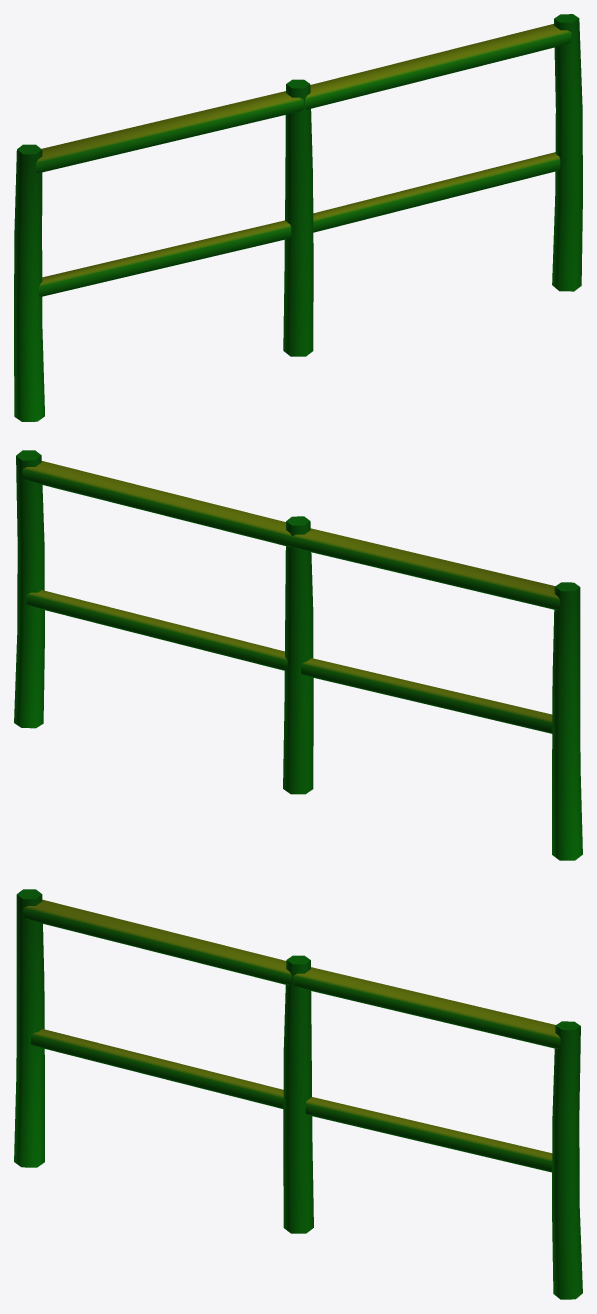
Rendered from timber_railing_2m.glb.
The picture shows the model from 3 angles, top to bottom: view 1: azimuth 30°, elevation 25°; view 2: azimuth 150°, elevation 25°; view 3: azimuth 330°, elevation 25°; orthographic projection.
Visible parts, largest first — view 1: timber_railing_2m; view 2: timber_railing_2m; view 3: timber_railing_2m.
Boxes of the visible parts, x1=… form: timber_railing_2m: x1=14, y1=14, x2=582, y2=421; timber_railing_2m: x1=14, y1=450, x2=582, y2=860; timber_railing_2m: x1=14, y1=889, x2=582, y2=1299.
Size of what is drawn, in the model's own units: 2.08 by 0.9543 by 0.1145.
